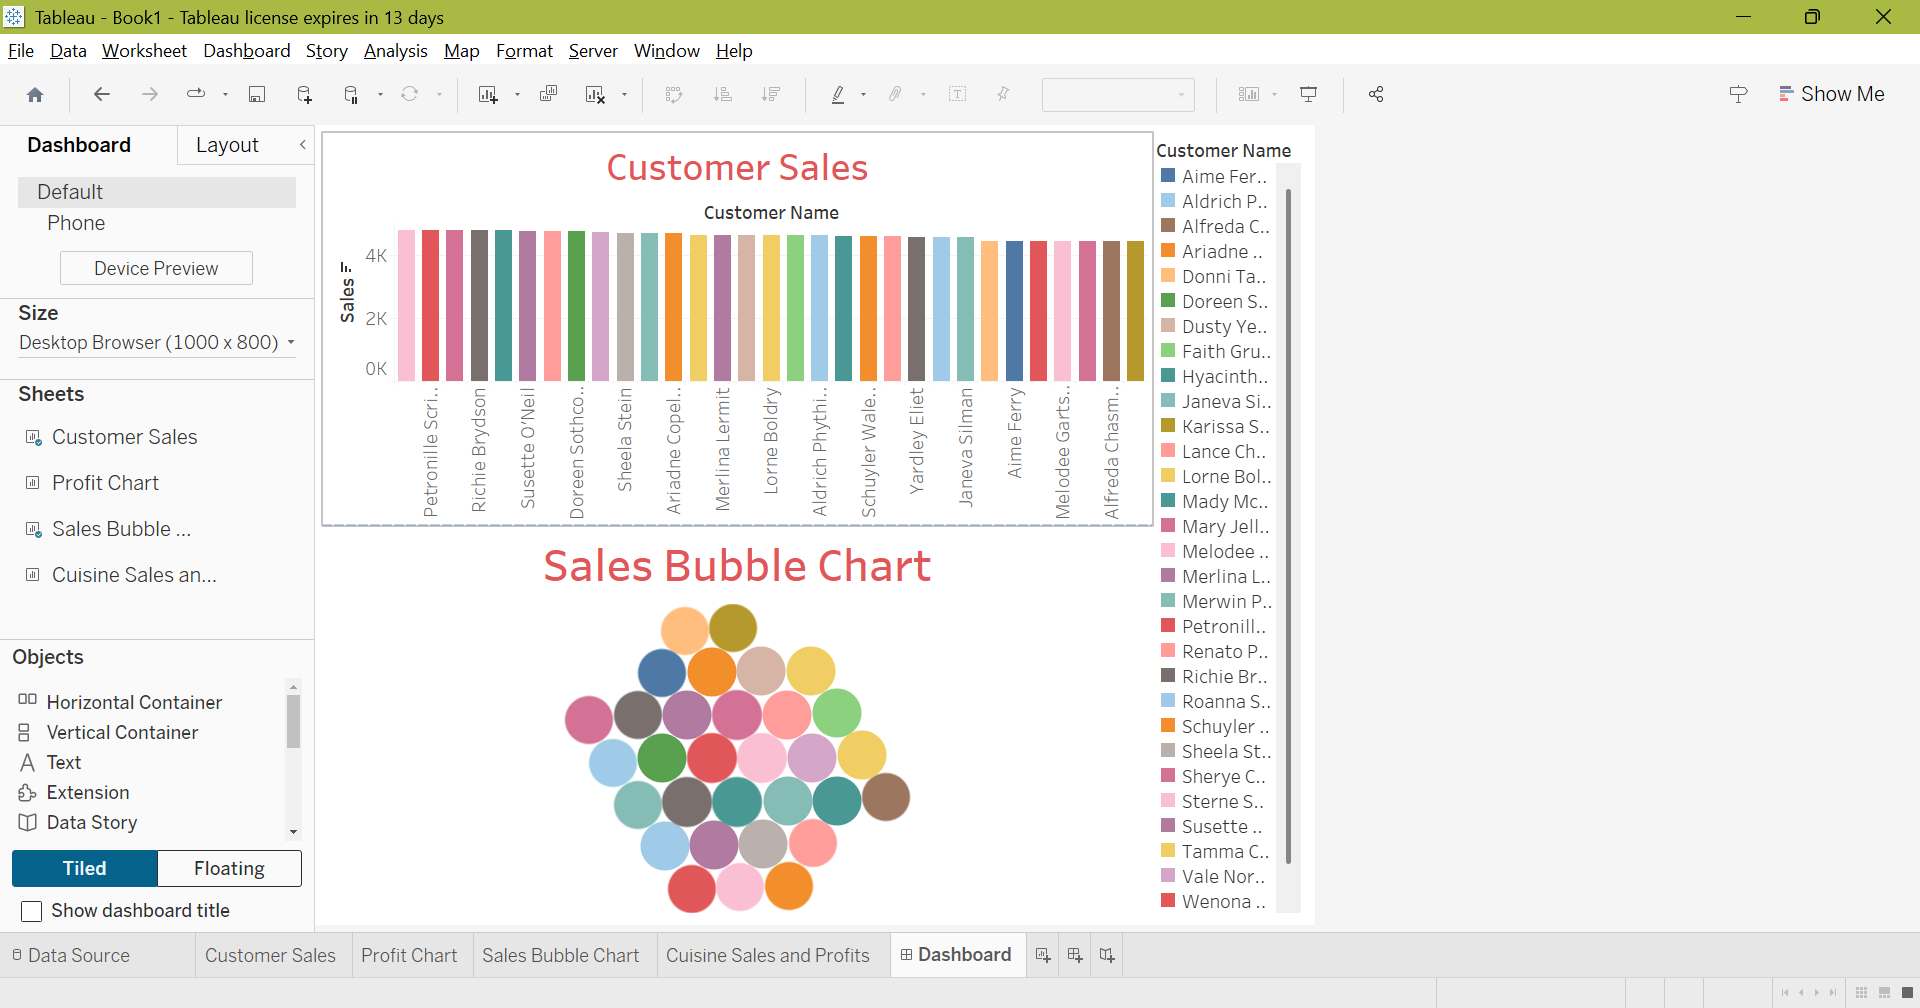

This screenshot's page, from the dashboard's own definition file:
{"tool":"tableau","page":{"name":"Dashboard ","canvas":[1000,800],"ordinal":0},"visuals":[{"type":"worksheet","title":"Customer Sales","mark":"Bar","rows":["Sales"],"cols":["Customer Name"],"box":[8,8,829,392]},{"type":"legend","title":"Customer Sales","param":"[federated.16o73iy0uo9rvj15xbk491v231ud].[none:Customer Name:nk]","box":[837,8,155,784]},{"type":"worksheet","title":"Sales Bubble Chart","mark":"Circle","box":[8,400,829,392]}]}

Visuals, with their boxes on the page's 1000x800 design canvas (x1, y1, x2, y2). These are canvas units, not pixel positions in the 1920x1008 screenshot, which may show the page scaled, cropped or inside an application window:
"Customer Sales" worksheet (Bar marks): [8, 8, 837, 400]
"Customer Sales" legend: [837, 8, 992, 792]
"Sales Bubble Chart" worksheet (Circle marks): [8, 400, 837, 792]
